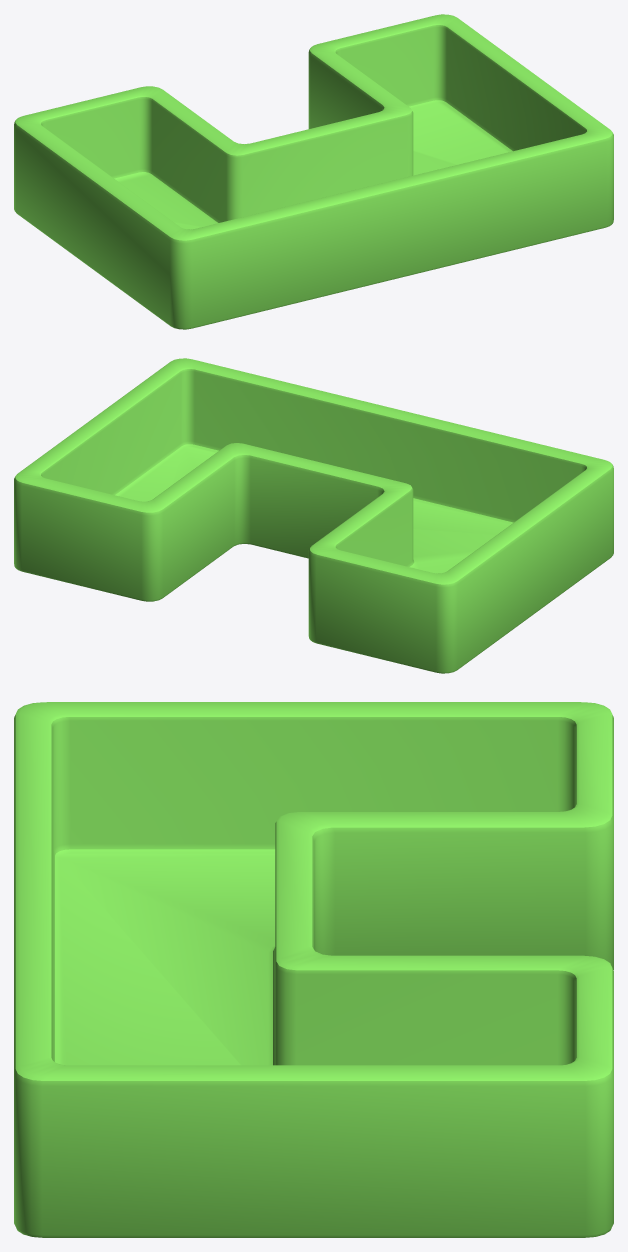
3 renders of one model, top to bottom at view 1: azimuth 30°, elevation 25°; view 2: azimuth 150°, elevation 25°; view 3: azimuth 270°, elevation 25°, orthographic. The views are drawn at different scales.
Parts seen in each view (by area): view 1: Shape_U5; view 2: Shape_U5; view 3: Shape_U5.
Part boxes in pixels (x1,y1,x2,y2): Shape_U5: (14, 14, 613, 329); Shape_U5: (14, 358, 613, 673); Shape_U5: (14, 702, 613, 1237).
Bounding box in the file's own units: 2.55 × 0.5 × 1.7.
